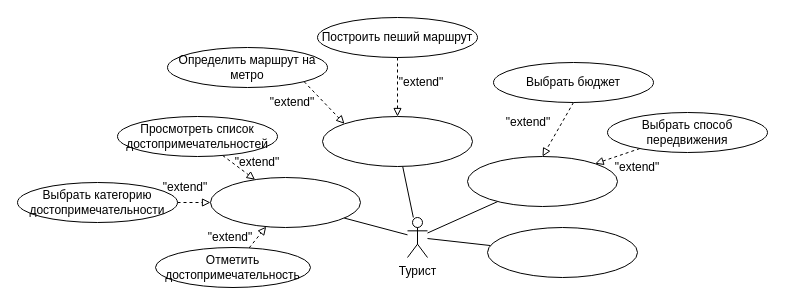
This 785x305 diagram has some shape labels left out. The centre of each missing label's shape, as x and y in pixels:
"Выбрать достопримечательности" goes at point 285,202.
"Выбрать параметры маршрута" goes at point 542,181.
"Определить маршрут" goes at point 397,141.
"Посмотреть карту" goes at point 562,252.
